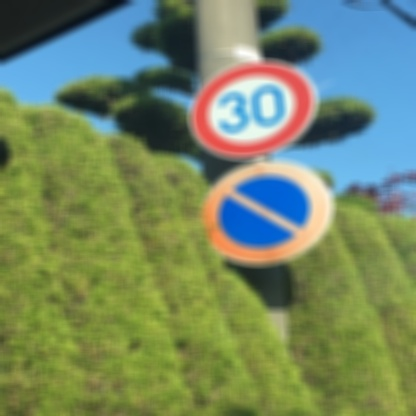Prohibition_sign: (186, 147, 345, 287)
Speed_sign: (180, 57, 327, 168)
